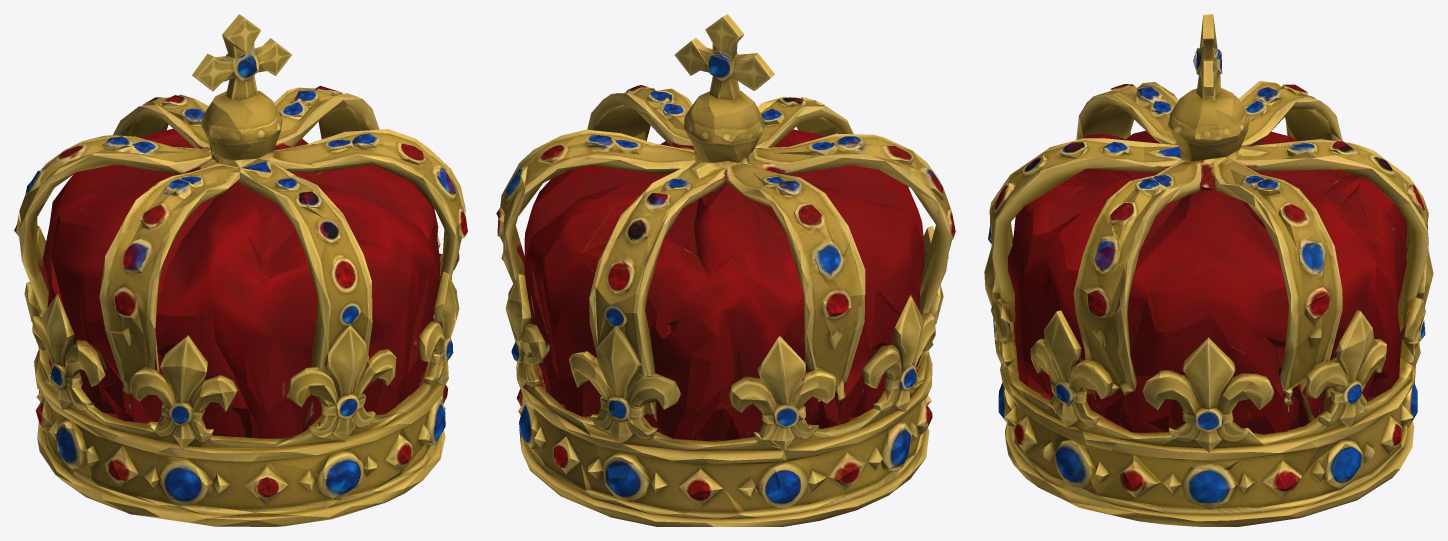
File: acc_crown.glb
The picture shows the model from 3 angles, left to right: view 1: azimuth 30°, elevation 25°; view 2: azimuth 150°, elevation 25°; view 3: azimuth 270°, elevation 25°; orthographic projection.
Visible parts, largest first — view 1: Mesh_0; view 2: Mesh_0; view 3: Mesh_0.
Part boxes in pixels (<box>): Mesh_0: <box>14,14,467,526</box>; Mesh_0: <box>496,14,955,526</box>; Mesh_0: <box>984,14,1433,526</box>.
Bounding box in the file's own units: 1.8 × 1.9 × 1.8.
1 material, 1 textured.
